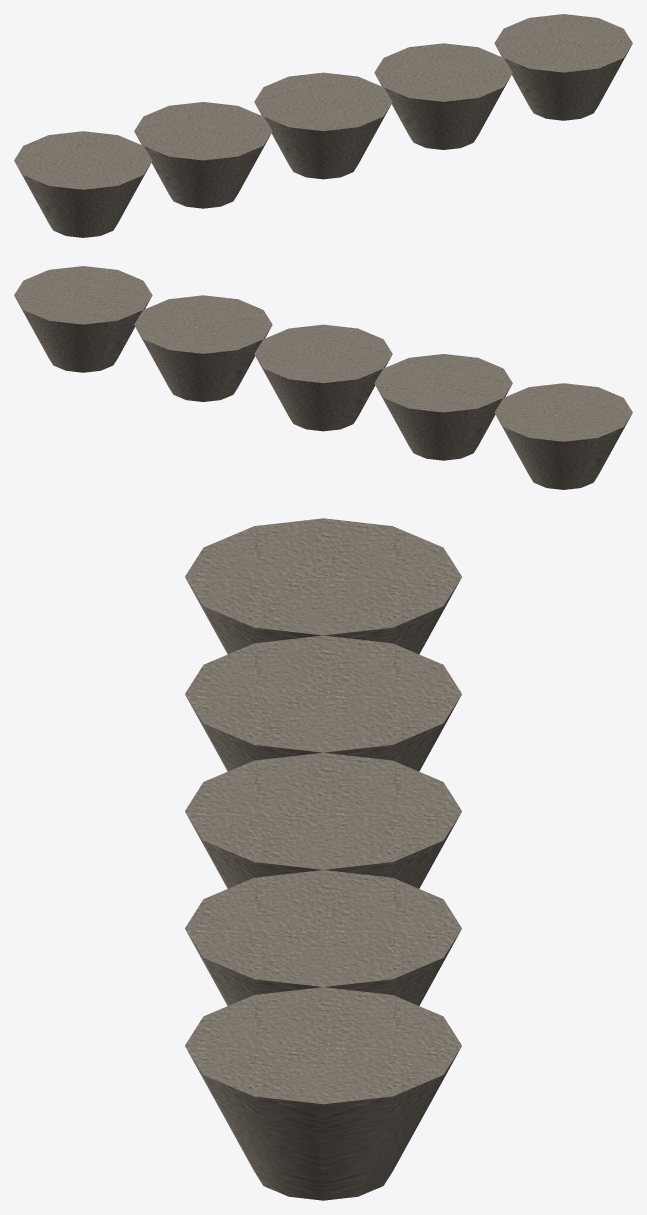
Rendered from lazer-1.obj.
3 views of the same model, one above another, from view 1: azimuth 30°, elevation 25°; view 2: azimuth 150°, elevation 25°; view 3: azimuth 270°, elevation 25° (orthographic). The views are drawn at different scales.
Parts seen in each view (by area): view 1: mesh01, mesh02, mesh05, mesh06, mesh04; view 2: mesh01, mesh02, mesh05, mesh06, mesh04; view 3: mesh06, mesh05, mesh01, mesh02, mesh04.
Boxes of the visible parts, x1,y1,x2,y2 form: mesh01: [14, 131, 152, 237]; mesh02: [134, 102, 272, 208]; mesh05: [374, 43, 512, 149]; mesh06: [494, 14, 632, 120]; mesh04: [254, 72, 392, 179]; mesh01: [494, 383, 632, 489]; mesh02: [374, 354, 512, 460]; mesh05: [134, 295, 272, 401]; mesh06: [14, 266, 152, 372]; mesh04: [254, 324, 392, 431]; mesh06: [185, 987, 461, 1200]; mesh05: [185, 870, 461, 1005]; mesh01: [185, 518, 461, 654]; mesh02: [185, 635, 461, 771]; mesh04: [185, 752, 461, 888].
Size of the model in its own units: 10 by 1 by 2.
